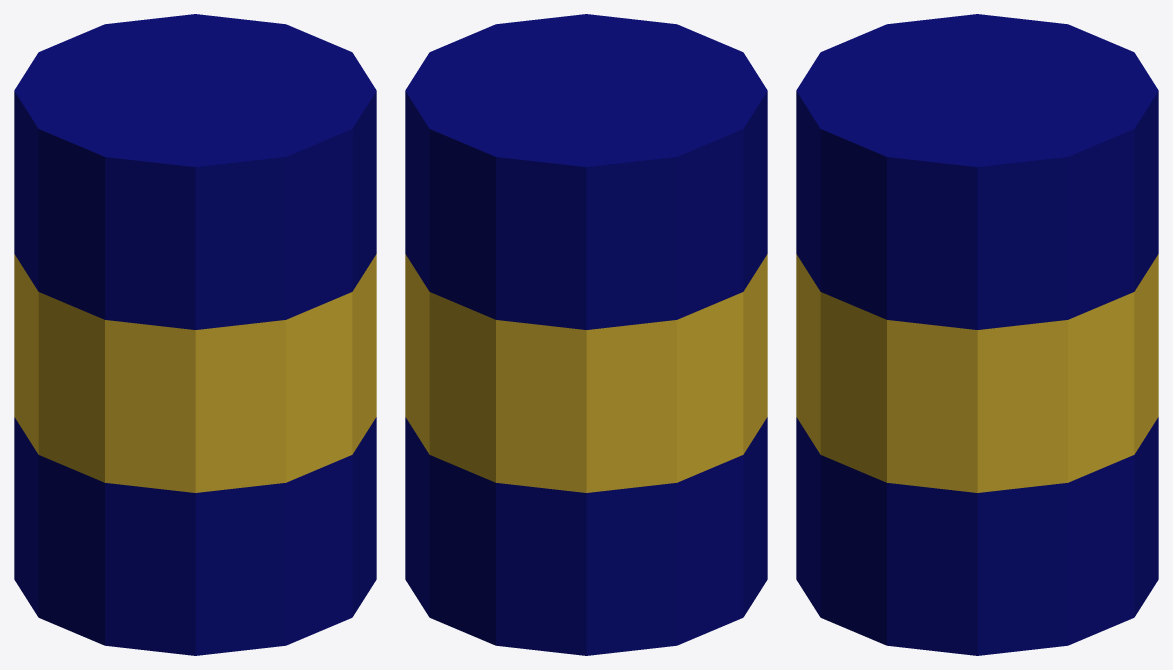
File: barrel.glb
3 views of the same model, side by side, from view 1: azimuth 30°, elevation 25°; view 2: azimuth 150°, elevation 25°; view 3: azimuth 270°, elevation 25° (orthographic).
Parts seen in each view (by area): view 1: barrel; view 2: barrel; view 3: barrel.
Part boxes in pixels (left/top/right/bottom): barrel: left=14, top=14, right=376, bottom=655; barrel: left=405, top=14, right=767, bottom=655; barrel: left=796, top=14, right=1158, bottom=655.
Bounding box in the file's own units: 0.572 × 0.851 × 0.572.
